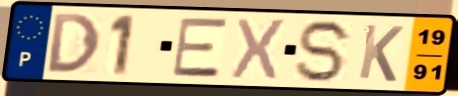1: (108, 13, 138, 77)
D: (46, 11, 103, 74)
E: (170, 17, 230, 79)
K: (356, 22, 407, 85)
S: (294, 18, 357, 85)
X: (228, 16, 289, 83)
